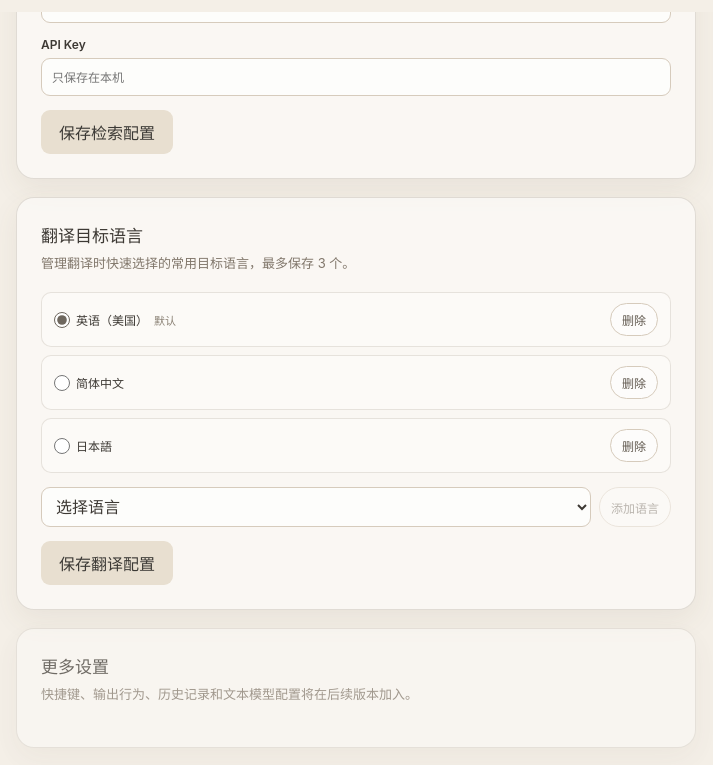
Test: translation settings › allows removing, adding, selecting a default, and saving a language configuration
(page scrolled)
Click the button with aria-label "删除 日本語" at (634, 446), box x1=610 y1=429 x2=658 y2=462
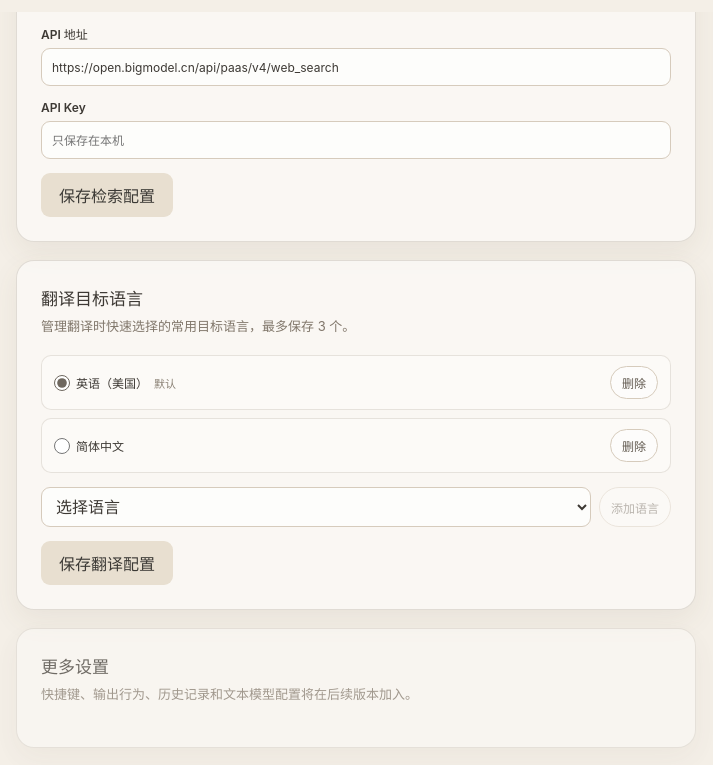
Select "Français" in the dropdown named "添加目标语言" at (316, 507), box x1=41 y1=487 x2=591 y2=527
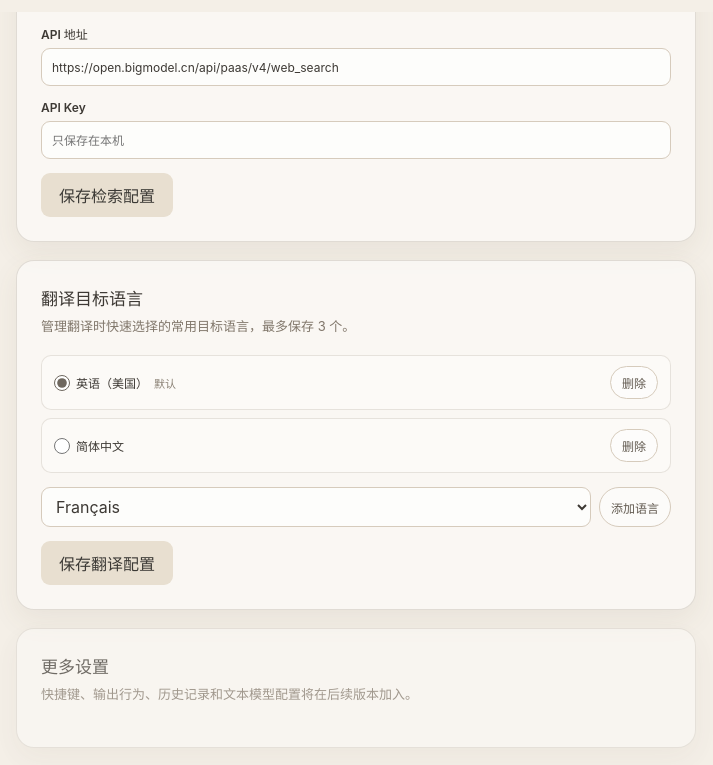
Click the button "添加语言" at (635, 507), box x1=599 y1=487 x2=671 y2=527
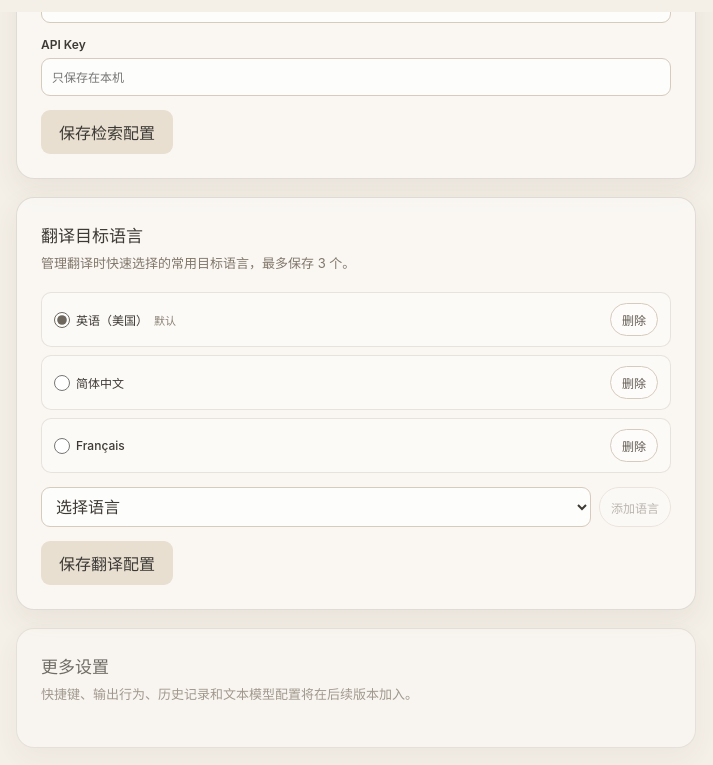
Click the radio button with aria-label "设为默认 Français" at (62, 446), box x1=54 y1=438 x2=70 y2=454
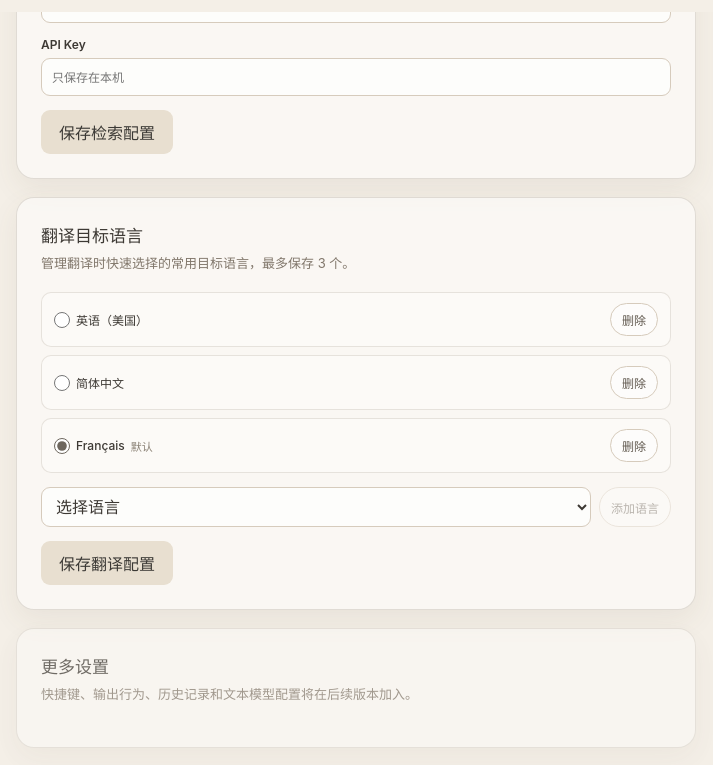
Click the button "保存翻译配置" at (107, 563), box x1=41 y1=541 x2=173 y2=585
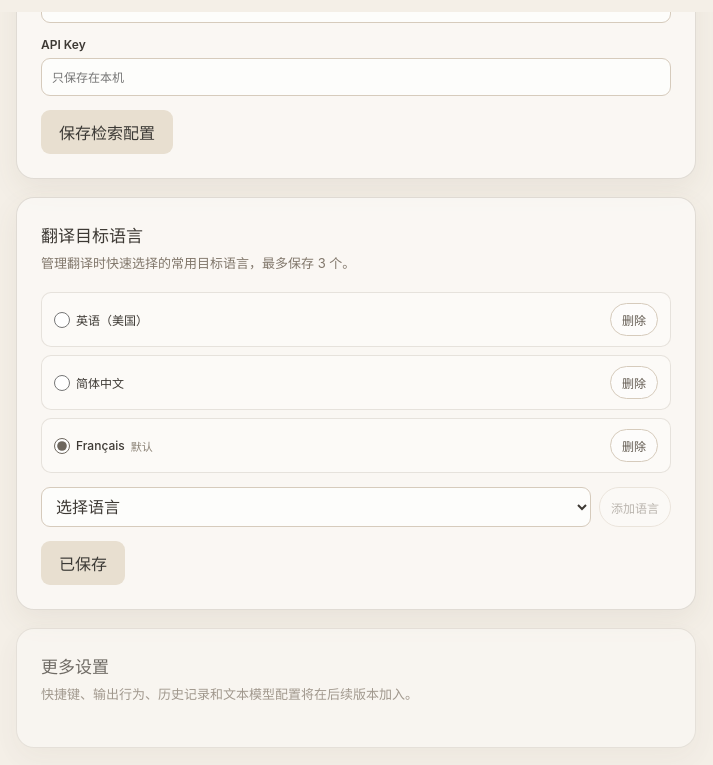
Check: the button "已保存" is shown, box x1=41 y1=541 x2=125 y2=585
